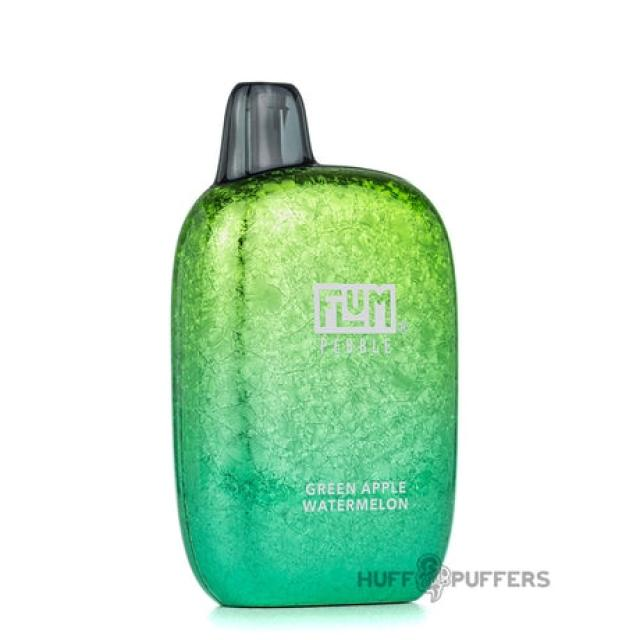Hazard: (168, 79, 459, 608)
